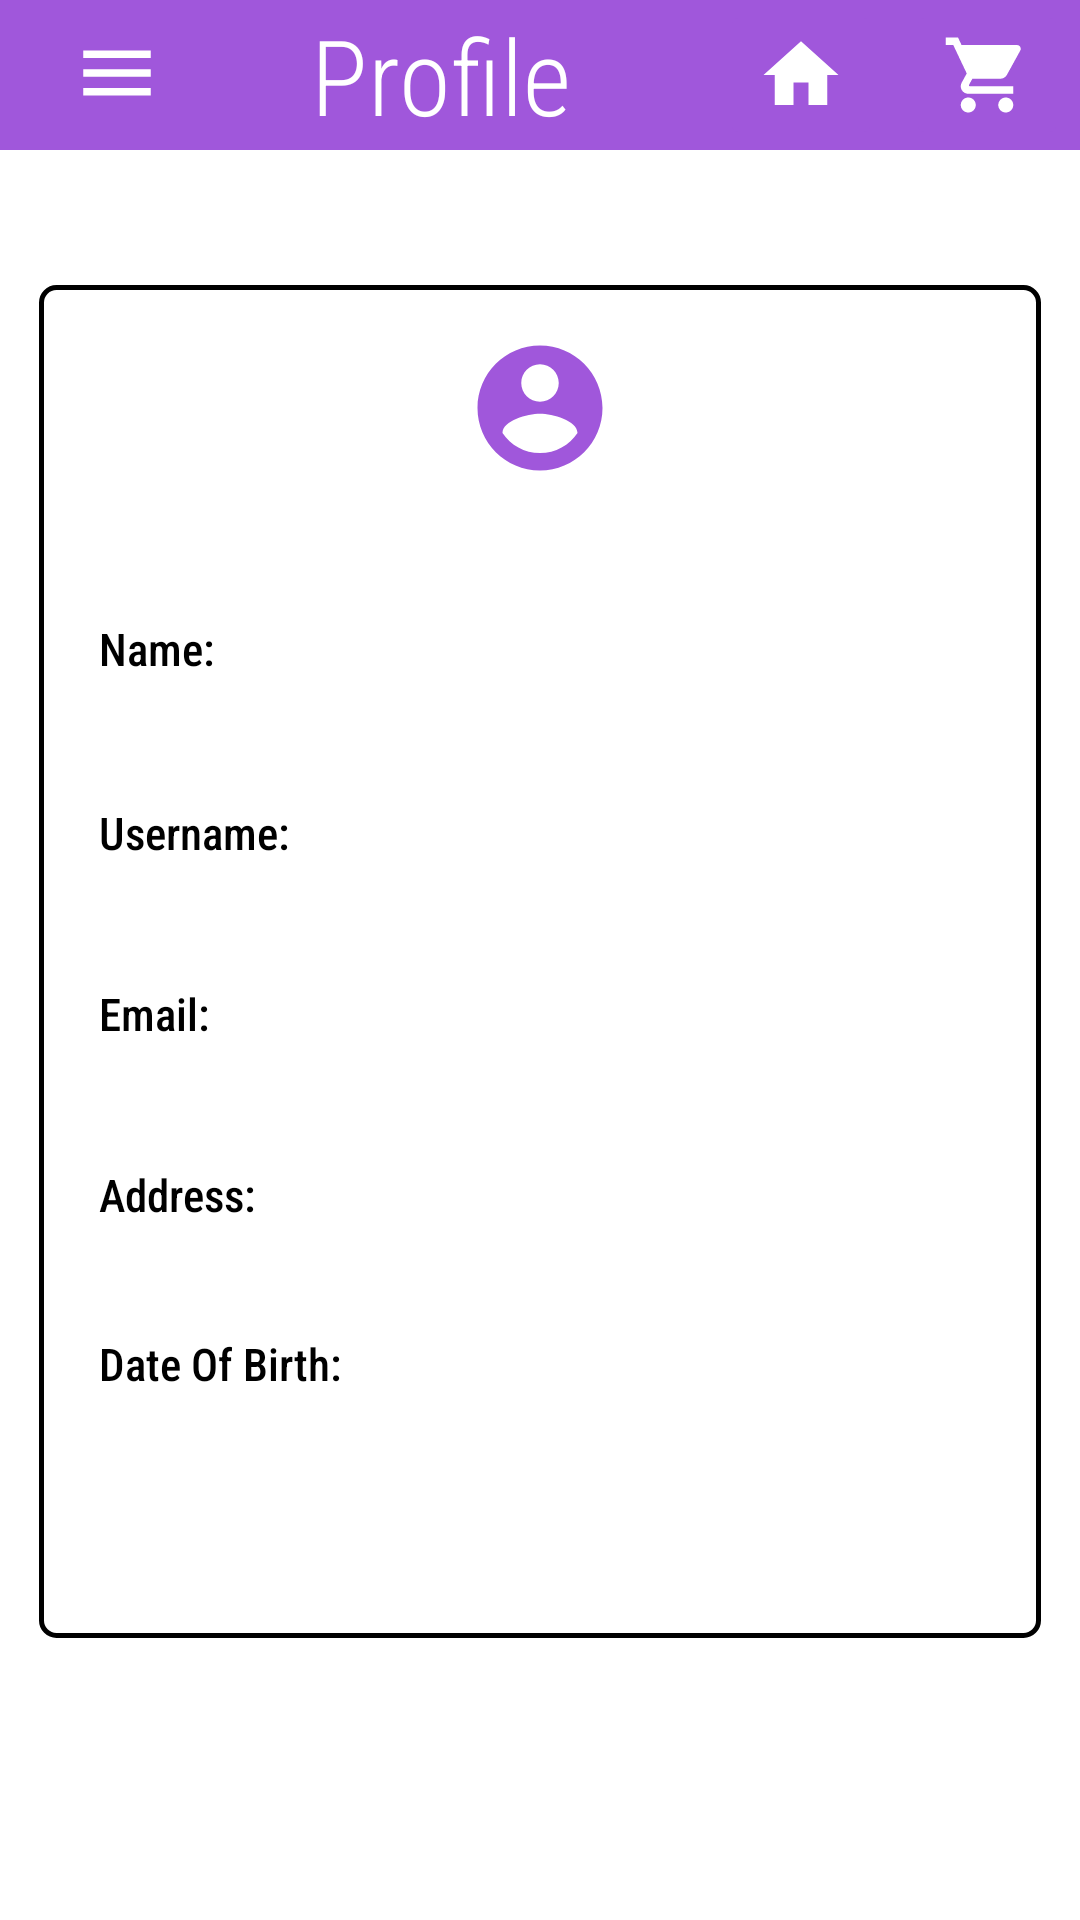

Icon bounding boxes for this 1080 × 1920 phone screenshot, format (x1, y1, x2, y2):
Home Button: (764, 41, 838, 105)
Profile Icon: (477, 345, 603, 471)
Shopping Cart Button: (945, 37, 1021, 113)
